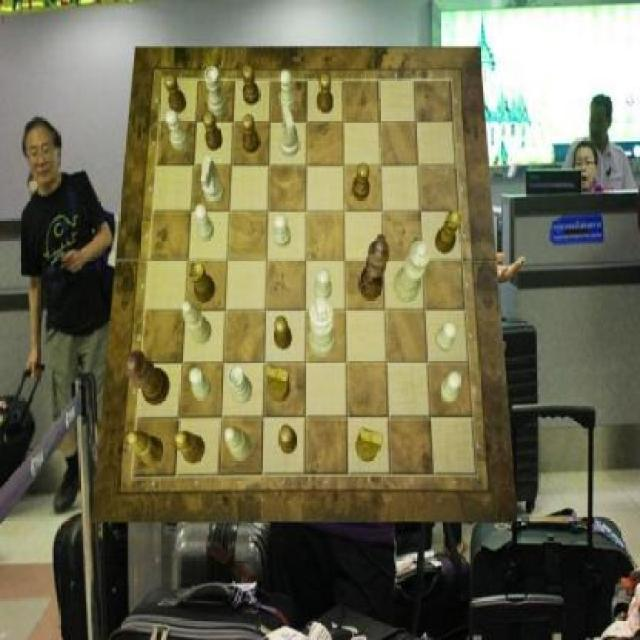bishop: (126, 431, 162, 465), (176, 430, 206, 464)
black-bishop: (358, 234, 391, 300)
black-king: (357, 428, 385, 462), (266, 365, 290, 402)
black-knight: (165, 74, 187, 114), (204, 111, 223, 151), (352, 163, 370, 201), (242, 114, 259, 154), (242, 66, 259, 106), (317, 74, 334, 114), (274, 315, 291, 350), (278, 426, 298, 454)
black-pawn: (126, 350, 171, 406)
black-queen: (436, 209, 462, 255), (189, 260, 216, 302)
black-rook: (182, 302, 212, 346), (224, 426, 252, 461)
white-bishop: (309, 295, 336, 358)
white-king: (200, 156, 225, 204), (280, 106, 300, 159)
white-knight: (166, 109, 189, 151), (189, 368, 212, 402), (440, 371, 462, 403), (280, 71, 297, 112), (435, 322, 458, 352), (196, 205, 214, 242), (274, 214, 291, 248), (314, 269, 331, 302)
white-pawn: (394, 238, 431, 301)
white-queen: (205, 66, 228, 117), (229, 366, 254, 405)
